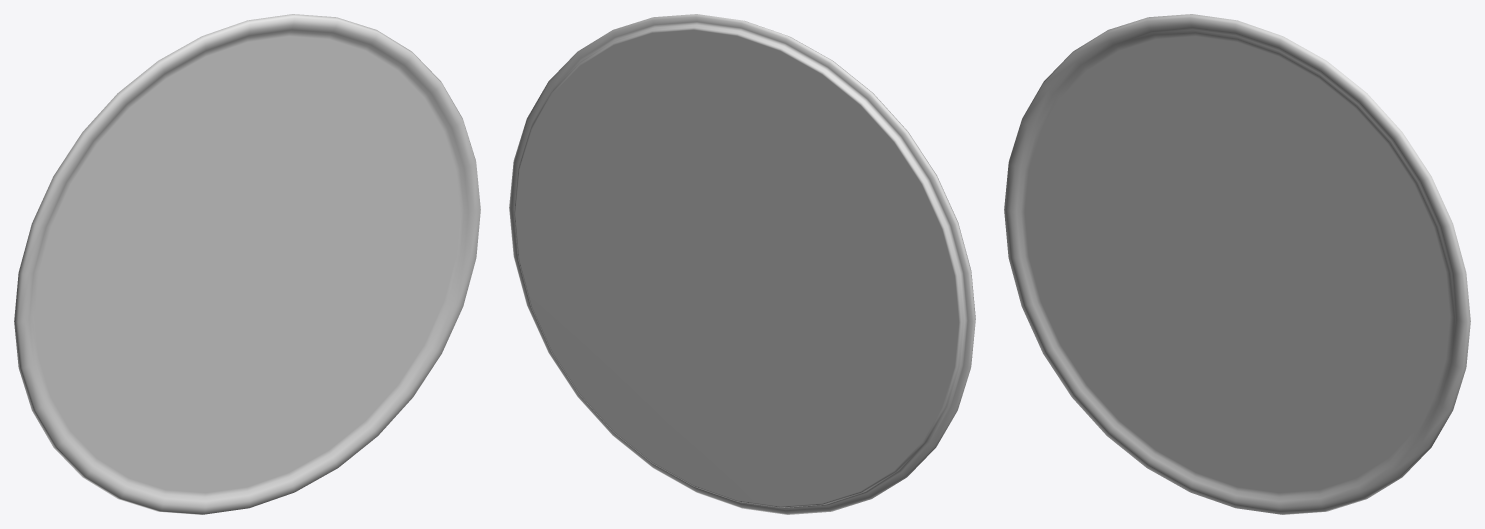
File: disc001.obj
The picture shows the model from 3 angles, left to right: view 1: azimuth 30°, elevation 25°; view 2: azimuth 150°, elevation 25°; view 3: azimuth 330°, elevation 25°; orthographic projection.
Parts seen in each view (by area): view 1: Microwave045_Disc001; view 2: Microwave045_Disc001; view 3: Microwave045_Disc001.
Boxes of the visible parts, x1,y1,x2,y2 form: Microwave045_Disc001: [14, 14, 480, 514]; Microwave045_Disc001: [509, 14, 975, 514]; Microwave045_Disc001: [1004, 14, 1470, 514].
Bounding box in the file's own units: 0.2589 × 0.2589 × 0.0072.
1 material, 1 textured.
